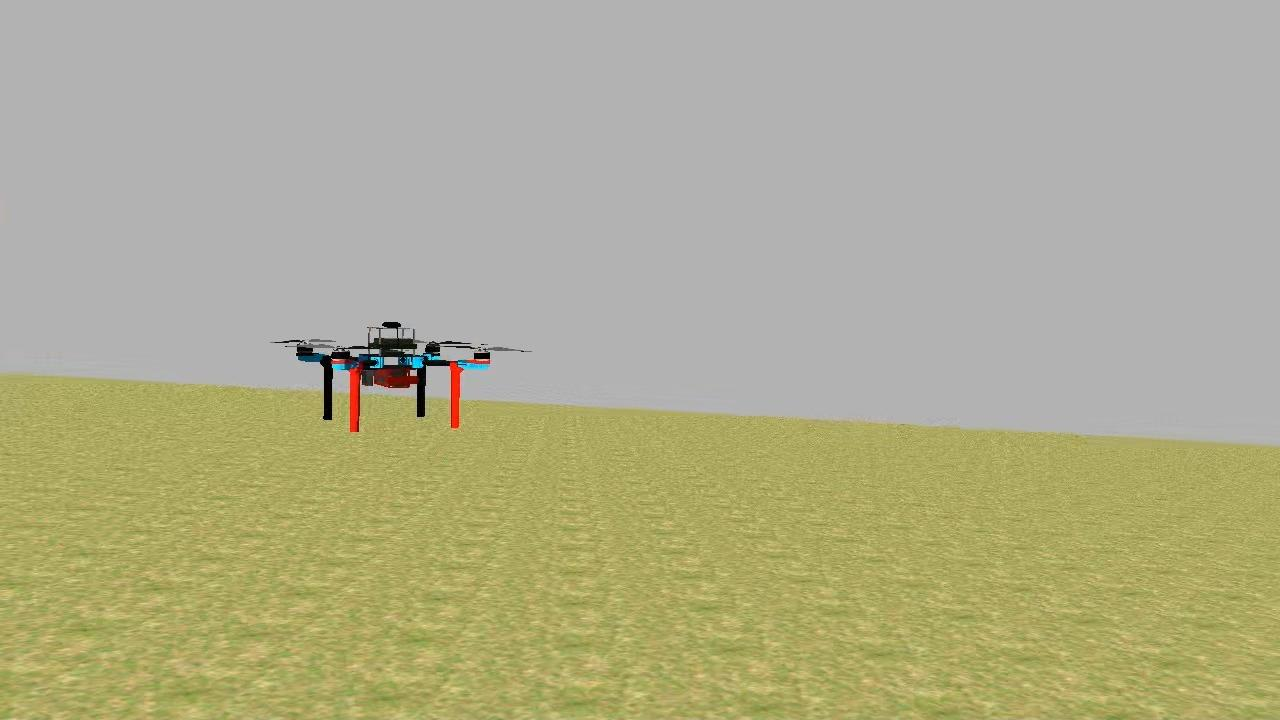UAV: (296, 314, 500, 438)
